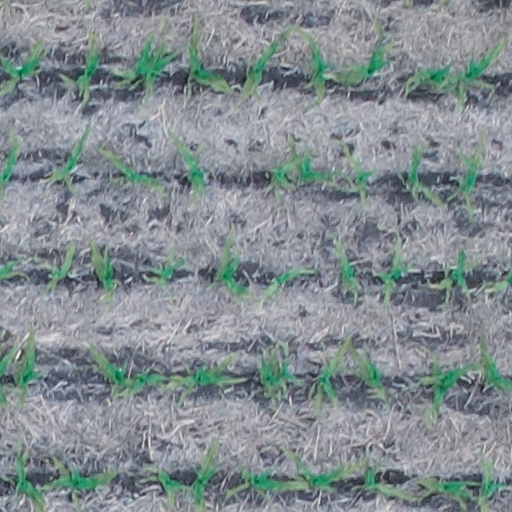planta: (106, 32, 183, 105), (409, 345, 477, 419), (158, 356, 247, 407), (237, 25, 296, 100), (330, 20, 395, 88), (184, 14, 235, 97), (38, 456, 127, 503), (452, 37, 505, 109), (280, 445, 361, 492), (95, 143, 166, 196), (341, 335, 391, 408), (88, 342, 150, 400), (310, 335, 353, 418), (57, 30, 102, 109), (356, 450, 421, 503), (43, 124, 92, 191), (225, 462, 314, 497), (285, 132, 342, 186), (403, 139, 446, 210), (369, 237, 412, 308), (429, 245, 487, 296), (338, 140, 381, 207), (11, 324, 46, 405), (211, 229, 252, 298), (294, 25, 328, 107), (446, 148, 483, 223), (260, 336, 303, 400), (167, 132, 208, 199), (400, 56, 459, 96), (87, 236, 120, 305), (38, 239, 79, 294), (109, 367, 171, 401), (141, 246, 190, 289), (265, 151, 306, 201), (261, 264, 318, 299), (332, 235, 361, 296), (257, 342, 281, 404)
